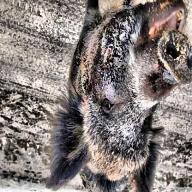boar: (46, 0, 192, 192)
